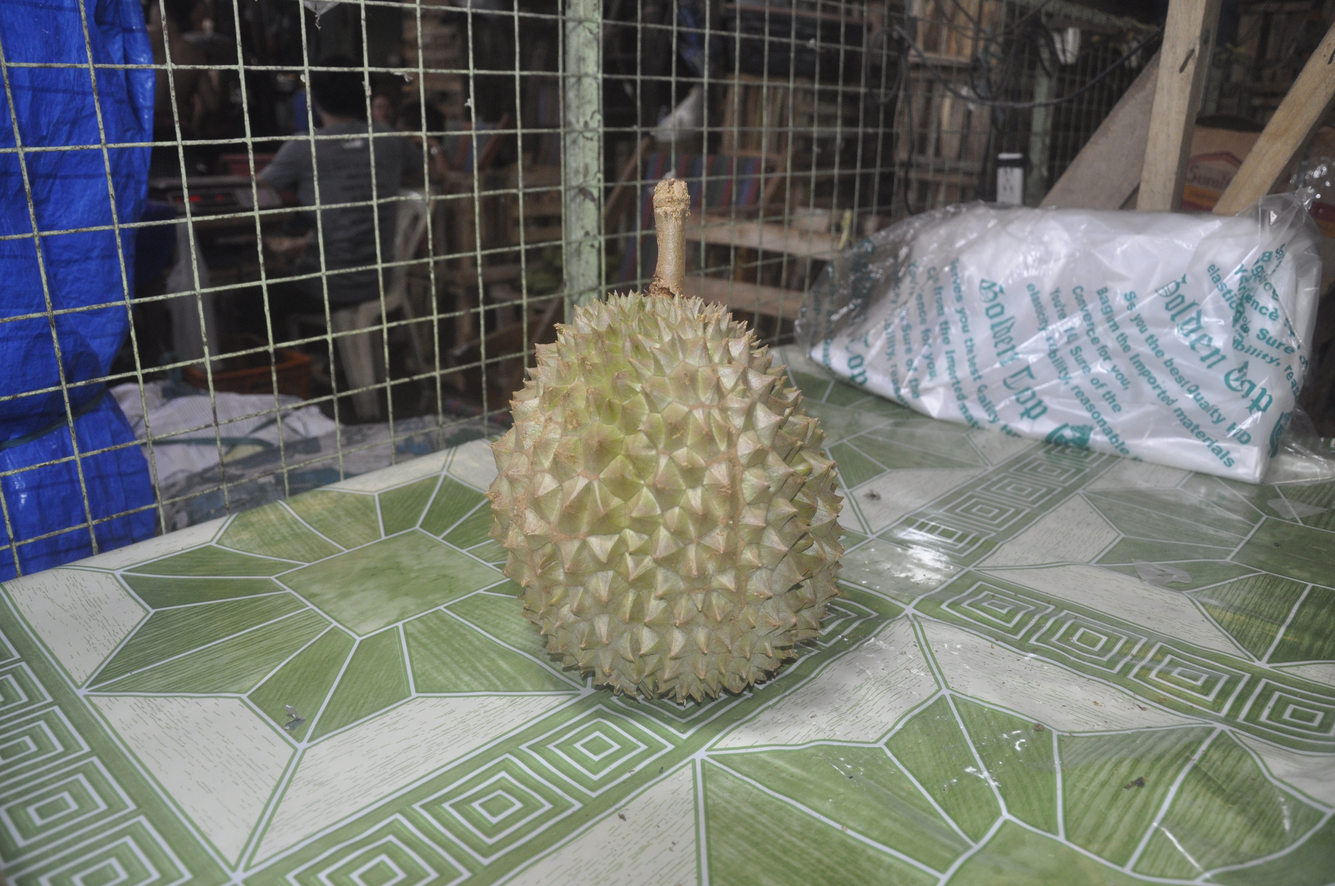mature: (488, 179, 843, 704)
